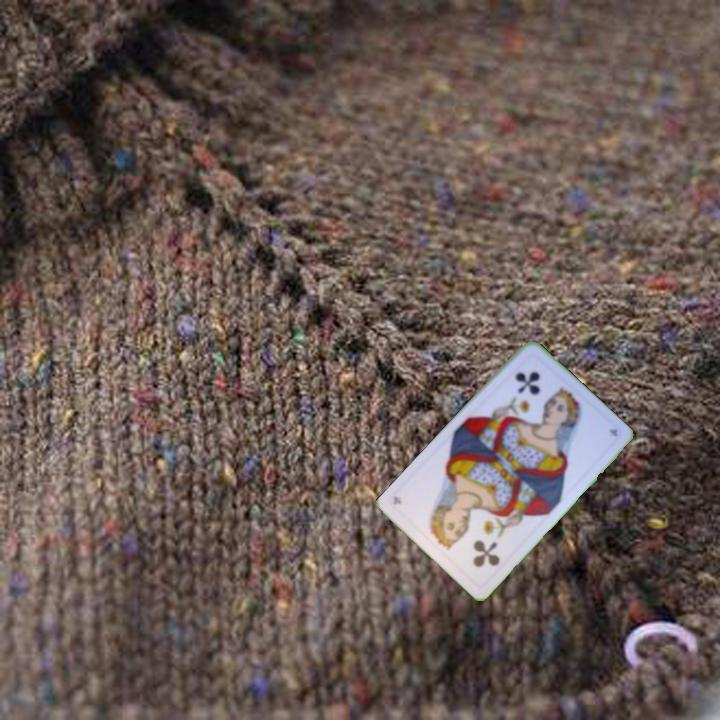c_q.png: (492, 350, 578, 435), (432, 504, 518, 589)
